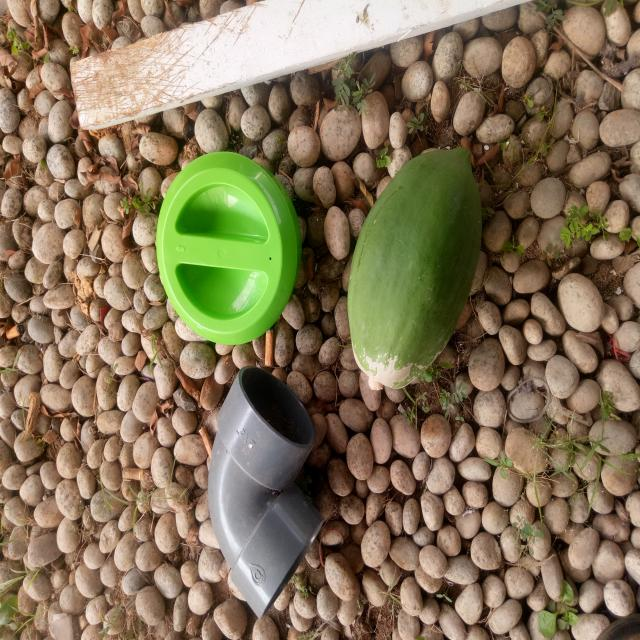Pepaya unrippen: (338, 130, 488, 399)
